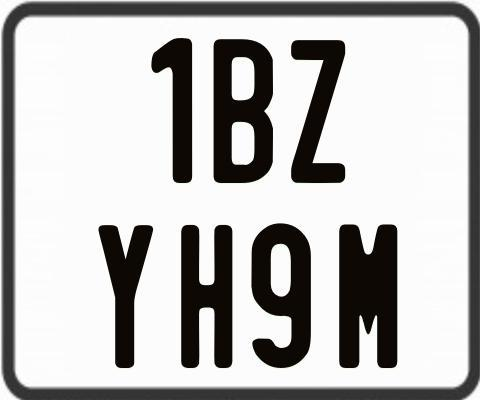1: (149, 35, 195, 181)
9: (248, 222, 311, 373)
B: (211, 39, 276, 187)
H: (181, 223, 236, 368)
M: (337, 222, 397, 367)
Y: (98, 225, 158, 370)
Z: (289, 39, 349, 184)
